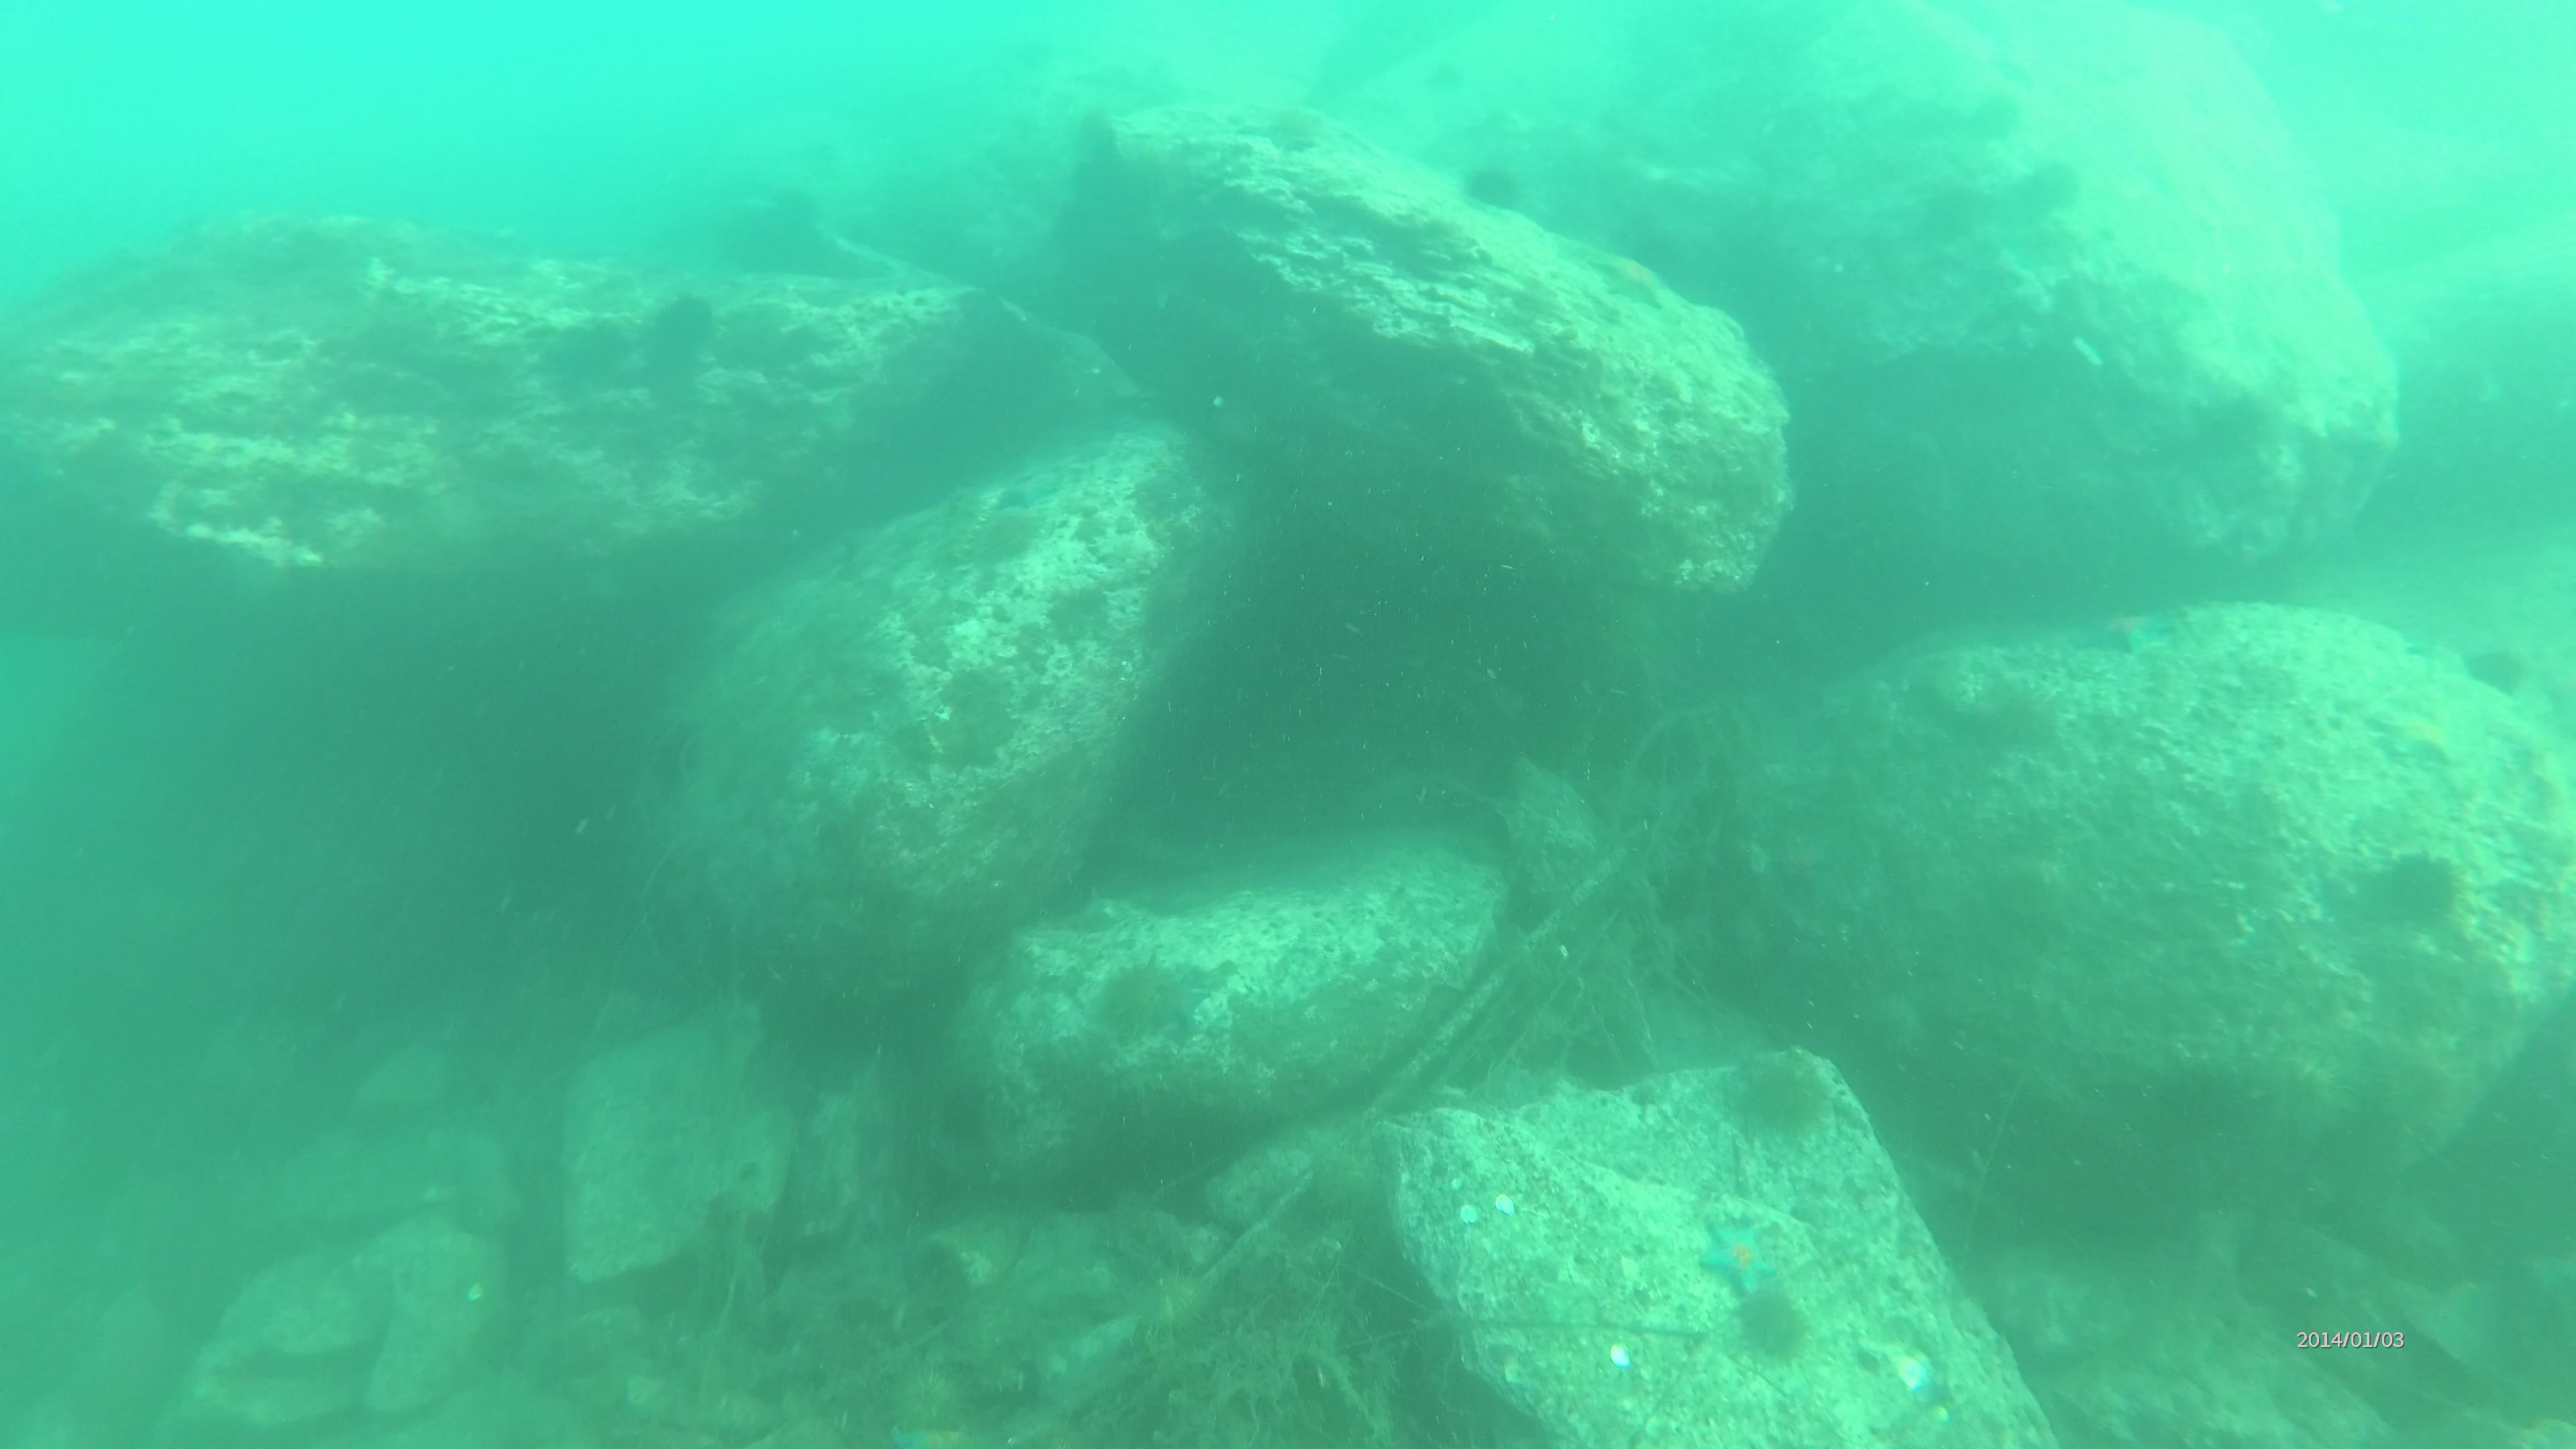echinus: (1092, 961, 1194, 1042), (1971, 674, 2065, 755), (2385, 839, 2468, 925), (1748, 1046, 1829, 1132), (637, 290, 709, 366), (1734, 1286, 1808, 1359), (2463, 637, 2528, 697), (1468, 163, 1532, 216), (1932, 177, 1992, 230), (1967, 90, 2024, 142), (2024, 156, 2081, 202)
holothurian: (947, 474, 998, 566)
starfish: (1698, 1207, 1776, 1295), (2365, 699, 2463, 770), (1592, 244, 1679, 313), (2086, 605, 2176, 658), (994, 462, 1062, 504)
